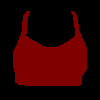reggiseno: (13, 10, 87, 86)
